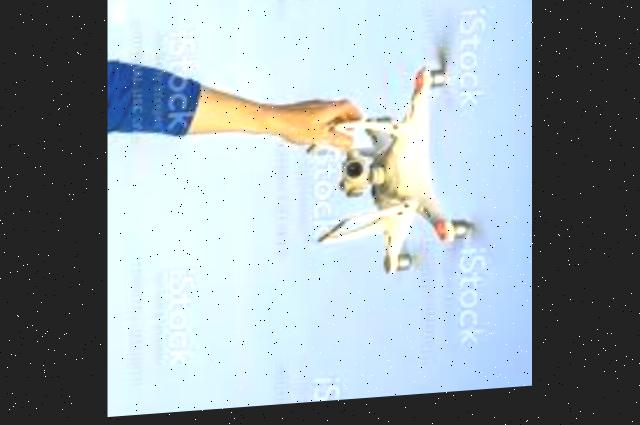drone: (304, 28, 478, 345)
